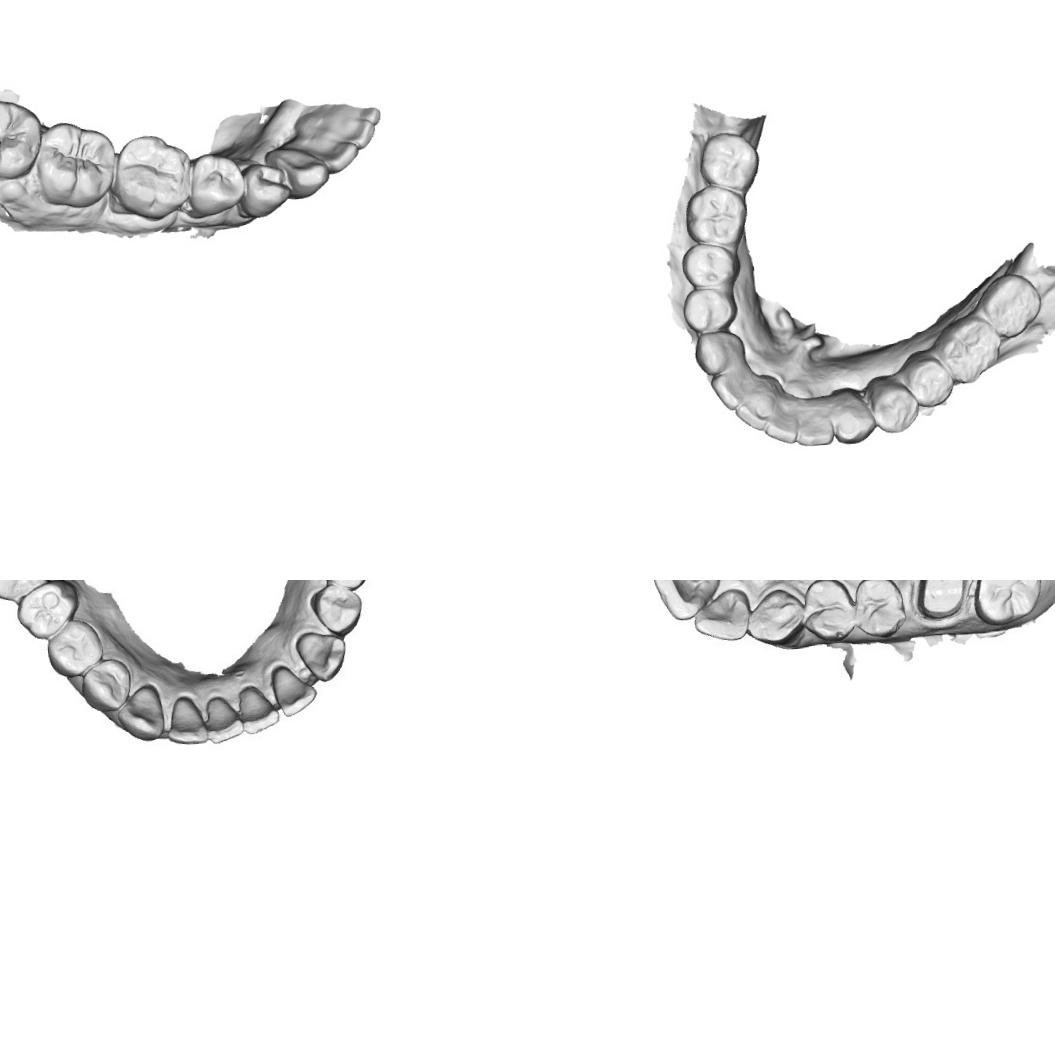canine: (261, 140, 330, 201), (741, 584, 804, 648), (293, 628, 348, 688), (827, 385, 877, 446), (115, 684, 168, 740), (691, 329, 747, 377)
crown: (907, 580, 975, 621)
incisor: (690, 584, 754, 643), (285, 130, 360, 178), (648, 580, 721, 623), (268, 662, 314, 719), (165, 688, 209, 746), (310, 116, 376, 154), (790, 397, 834, 452), (758, 394, 804, 444), (237, 682, 280, 734), (731, 389, 781, 433), (707, 368, 757, 412), (204, 693, 244, 746)
molar: (109, 128, 196, 224), (32, 117, 119, 211), (930, 312, 1004, 386), (974, 270, 1044, 340), (682, 183, 750, 250), (0, 94, 47, 183), (696, 129, 760, 193), (967, 580, 1046, 625)
premolar: (182, 148, 249, 221), (42, 614, 103, 680), (236, 156, 295, 220), (896, 348, 956, 410), (305, 580, 364, 642), (14, 580, 76, 639), (865, 372, 921, 436), (801, 580, 856, 644), (74, 656, 132, 716), (678, 238, 743, 288), (851, 580, 905, 636), (680, 284, 740, 334)
